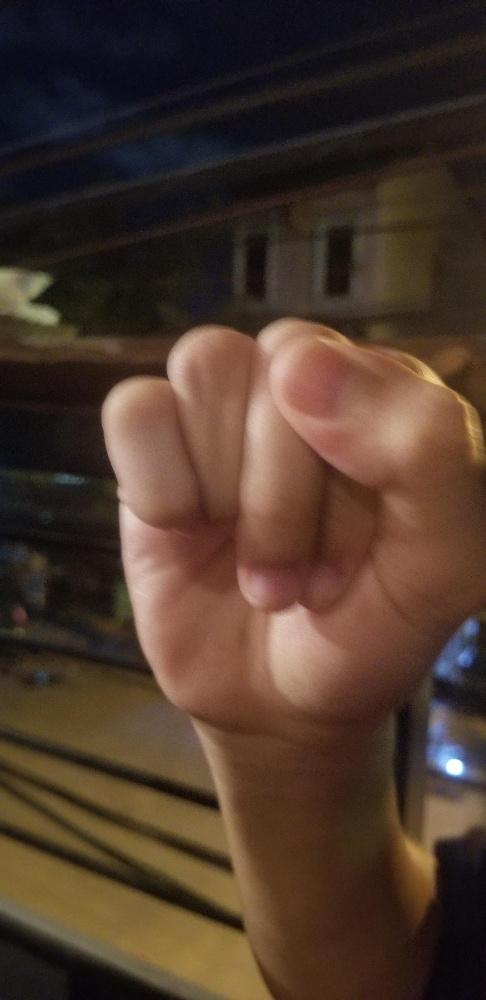s: (97, 314, 485, 740)
